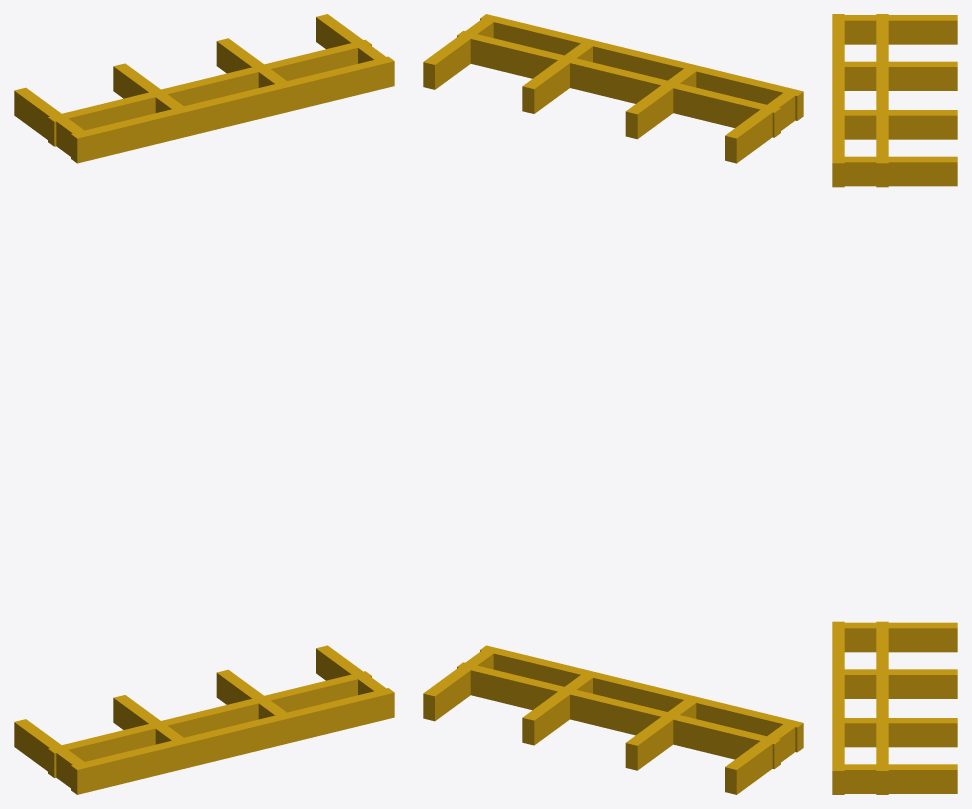
The model's file is bridge_railings.obj.
The picture shows the model from 3 angles, left to right: view 1: azimuth 30°, elevation 25°; view 2: azimuth 150°, elevation 25°; view 3: azimuth 270°, elevation 25°; orthographic projection. The views are drawn at different scales.
Parts seen in each view (by area): view 1: Cube.001; view 2: Cube.001; view 3: Cube.001.
Boxes of the visible parts, <box> form: Cube.001: <box>14,14,394,794</box>; Cube.001: <box>423,14,803,794</box>; Cube.001: <box>832,14,957,794</box>.
Size of the model in its own units: 0.4 by 0.79 by 0.142.
